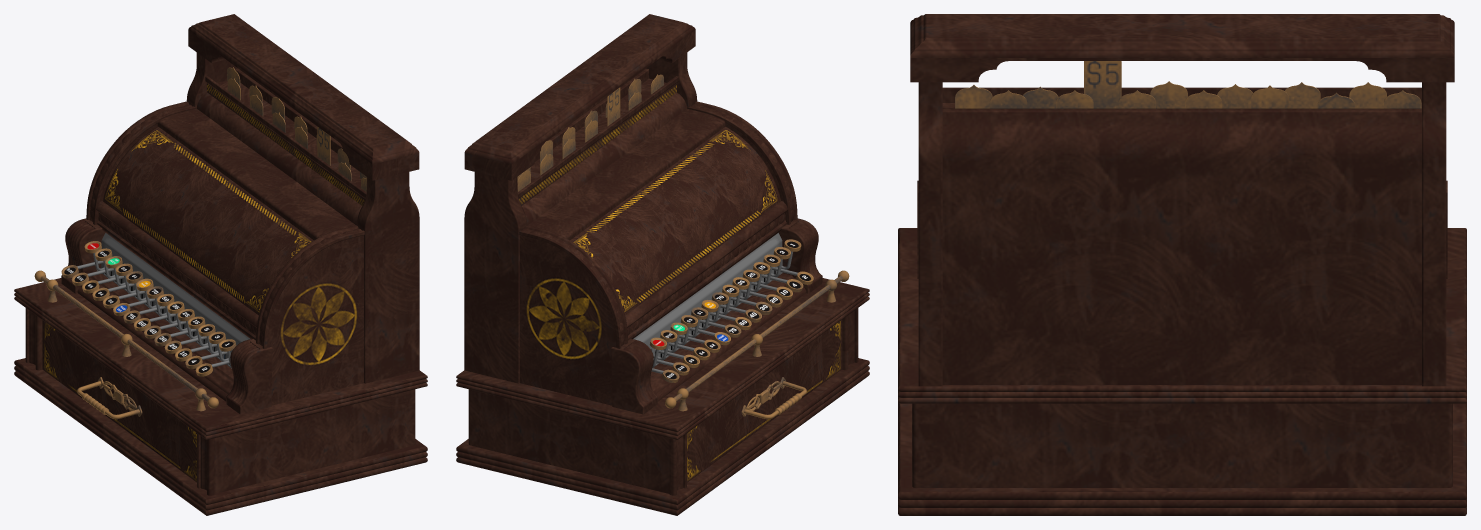
Rendered from Cash Register.fbx.
3 renders of one model, left to right at view 1: azimuth 30°, elevation 25°; view 2: azimuth 150°, elevation 25°; view 3: azimuth 270°, elevation 25°, orthographic. The views are drawn at different scales.
Parts seen in each view (by area): view 1: Old_Antique_Cash_Register_Model; view 2: Old_Antique_Cash_Register_Model; view 3: Old_Antique_Cash_Register_Model.
Part boxes in pixels (bbox=[...]): Old_Antique_Cash_Register_Model: bbox=[14, 14, 427, 515]; Old_Antique_Cash_Register_Model: bbox=[456, 14, 869, 515]; Old_Antique_Cash_Register_Model: bbox=[898, 14, 1466, 515].
Bounding box in the file's own units: 63.56 × 80.64 × 88.36.
